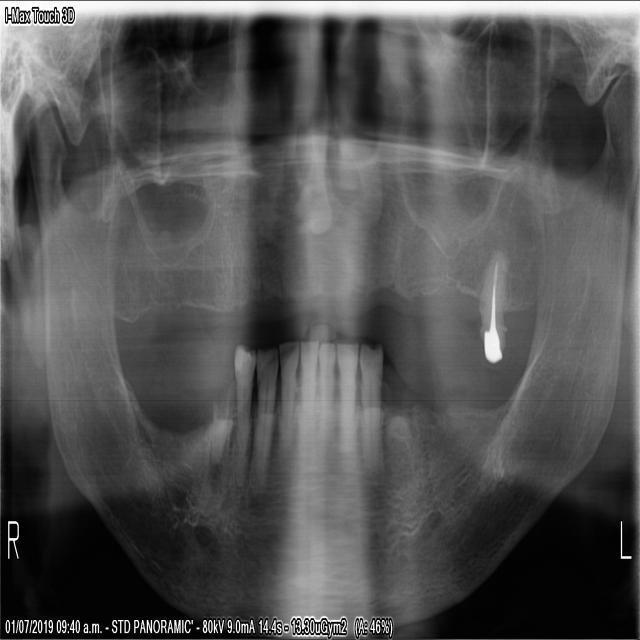LCD: (360, 342, 384, 474)
LID: (334, 335, 360, 469), (314, 343, 336, 472)
LMU: (478, 243, 508, 369)
RCD: (250, 342, 279, 482)
RID: (274, 340, 299, 473), (296, 337, 316, 469)
RPMD: (230, 337, 257, 485)
